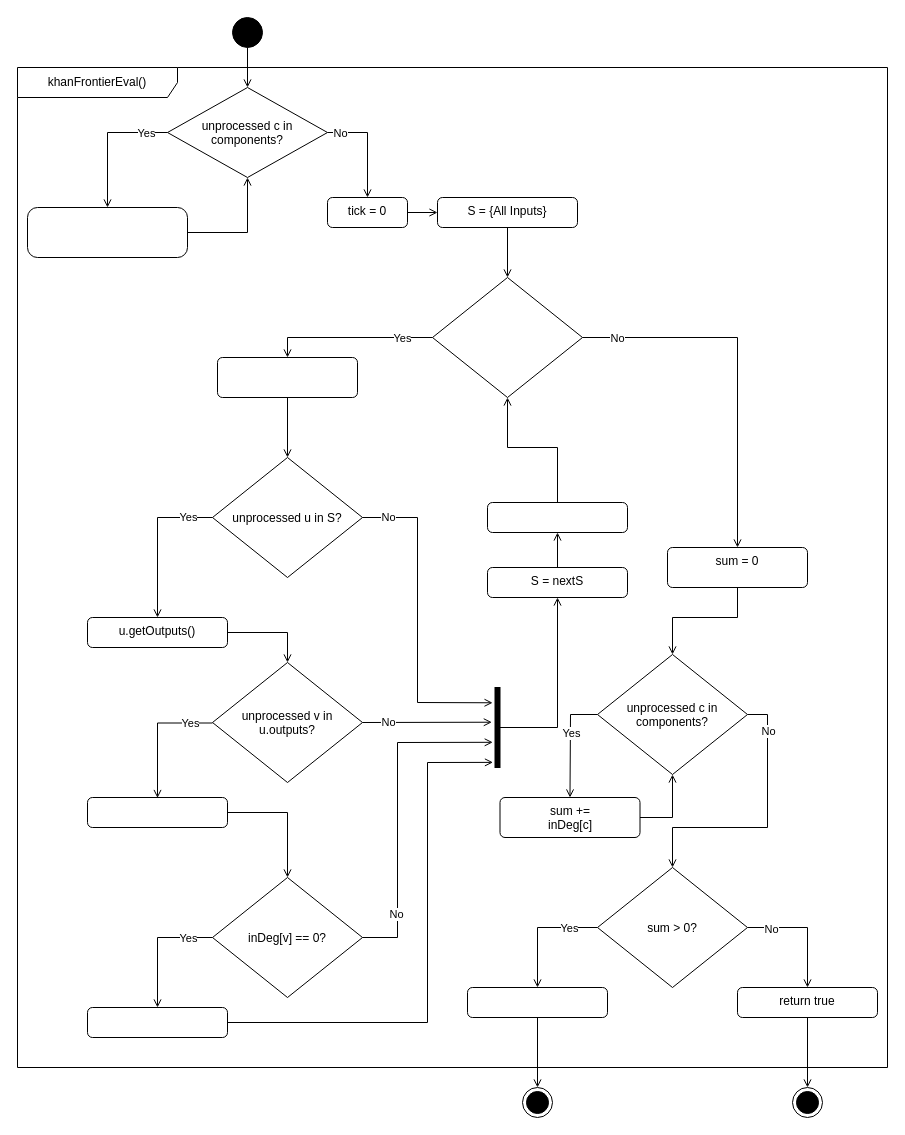
This 905x1135 diagram has some shape labels left out. Each missing label, with the centre of its shape:
"inDeg[c] = c.inputs.count()" goes at (107,232).
"inDeg[v] -= 1" goes at (157,812).
"Is S not empty?" goes at (507,337).
"nextS = { }" goes at (287,377).
"nextS.add(v)" goes at (157,1022).
"return false" goes at (537,1002).
"tick += 1" goes at (557,517).
